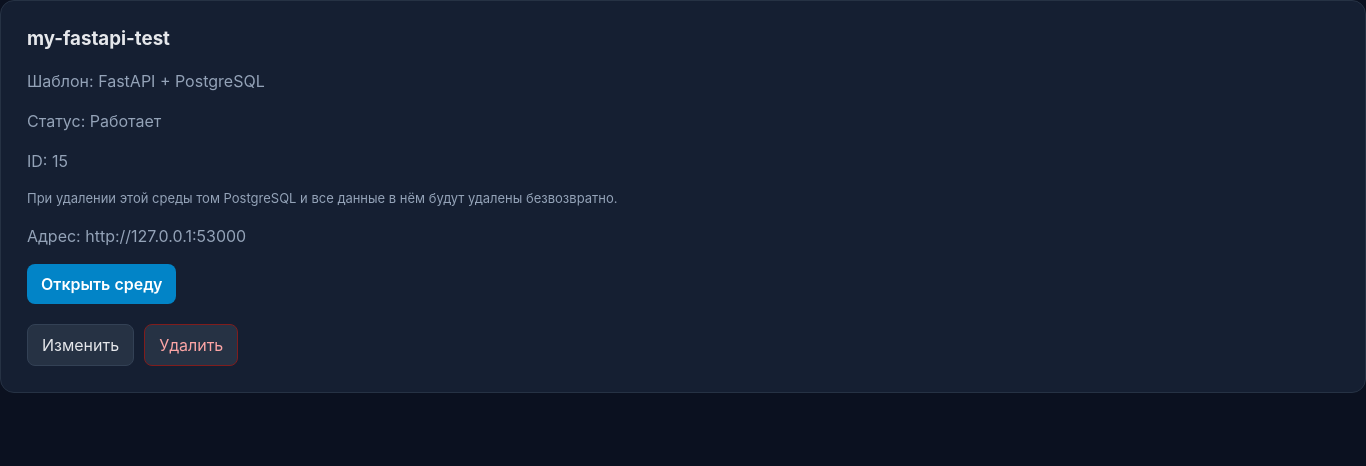
FastAPI + PostgreSQL deletion › rejects an incorrect environment name
Click the button "Удалить": (191,345) [144,324,238,366]
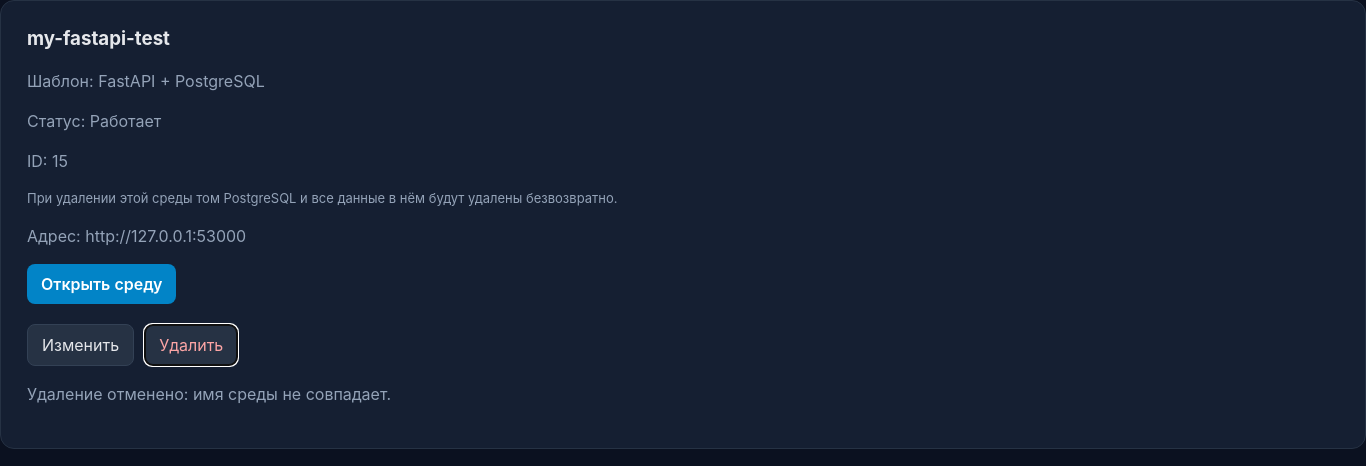
Expected: the message shows "имя среды не совпадает", [27,384,391,404]
